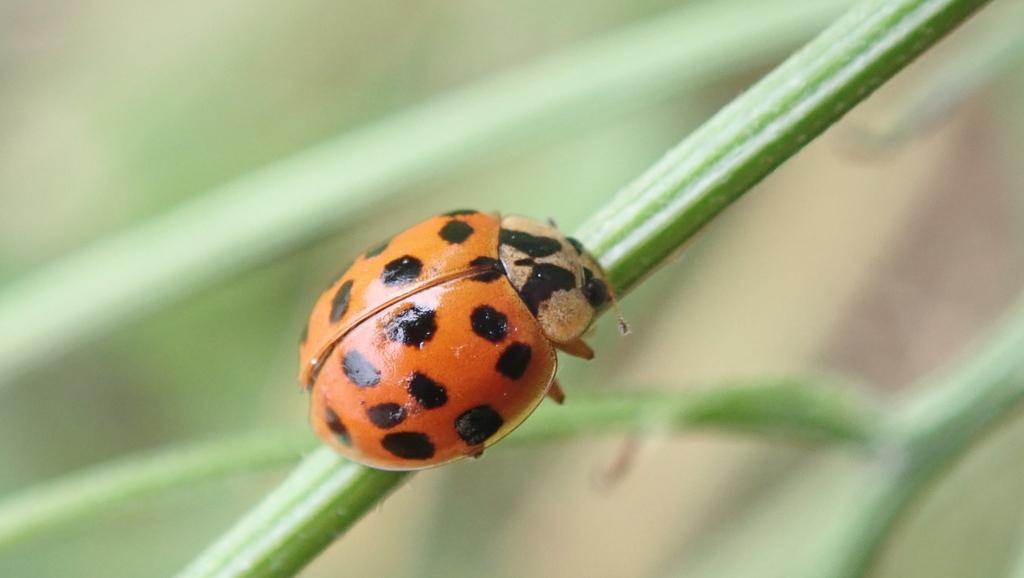ladybug: (296, 204, 633, 474)
